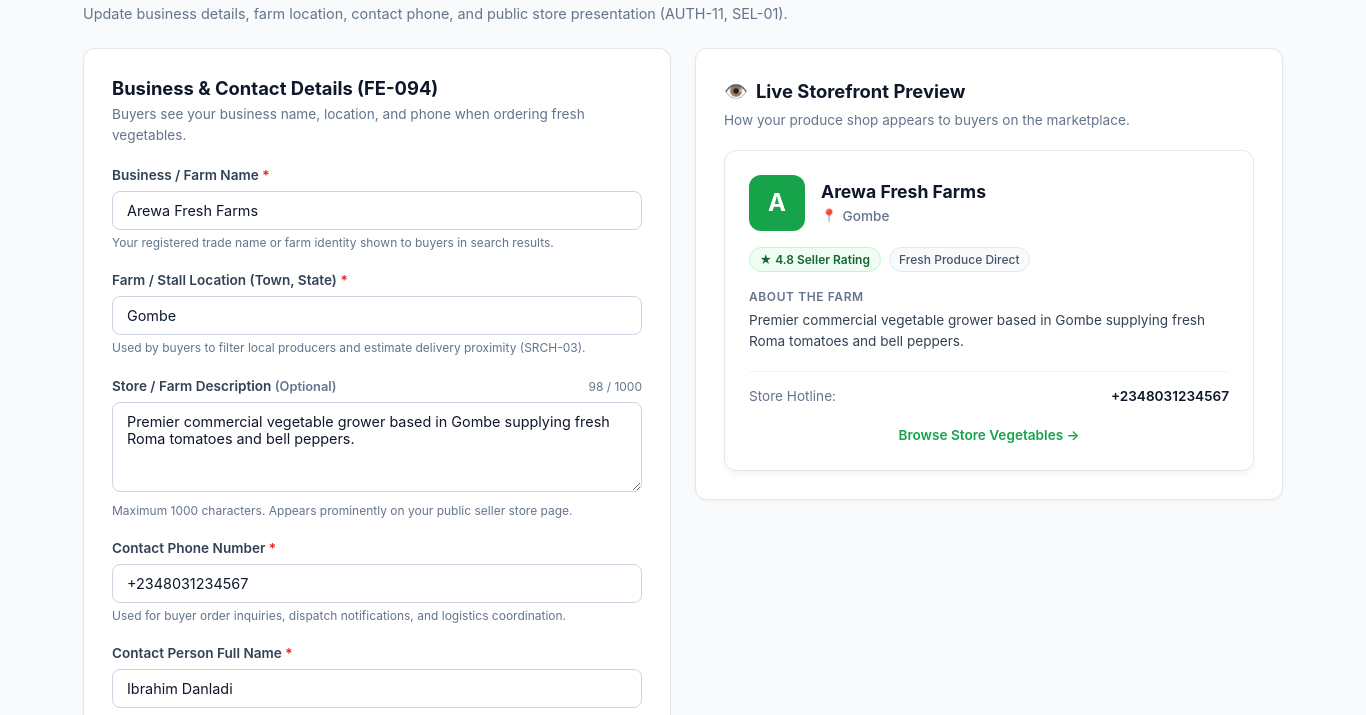
Test: FE-094 / AUTH-11: Seller Profile Edit › 2. Client-Side Validation for Edit Fields (FE-094, AUTH-11) › validates contact phone number (required, at least 10 digits)
// Clear phone
Clear the field with test id "profile-phone-input". click: point(377, 584)
box: [112,564,642,603]
(page scrolled)
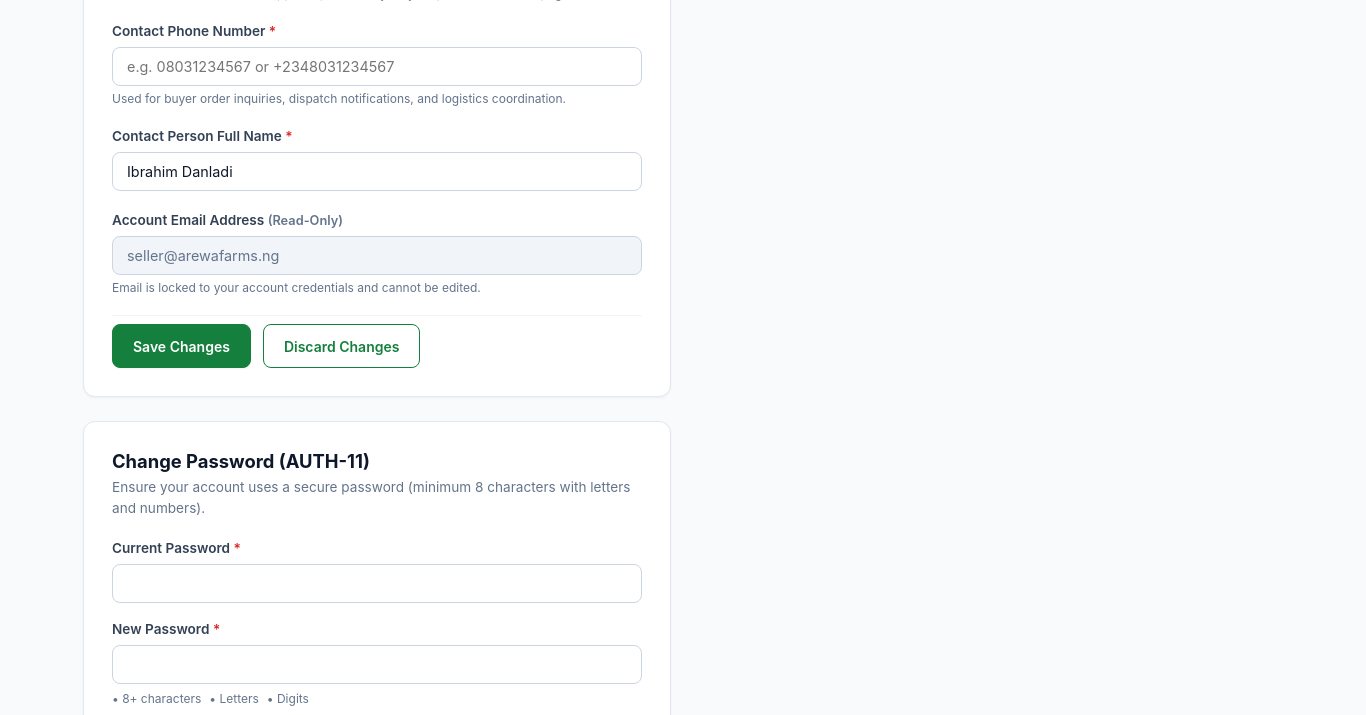
Click the button with test id "profile-save-btn". click: point(181, 346)
box: [112,324,251,368]
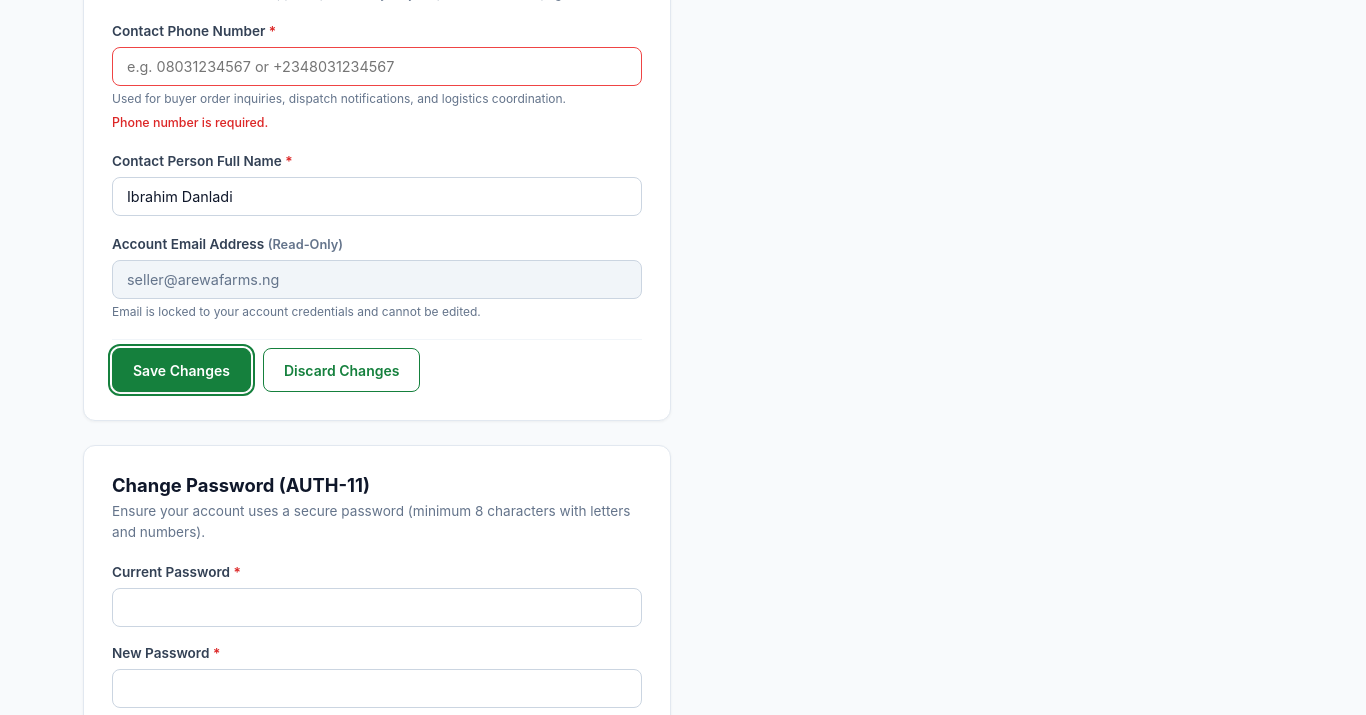
Result: the message with test id "profile-phone-error" shows "Phone number is required" at [112,115,268,130]
// Too short
Type "12345" into the field with test id "profile-phone-input". click: point(377, 67)
box: [112,47,642,86]
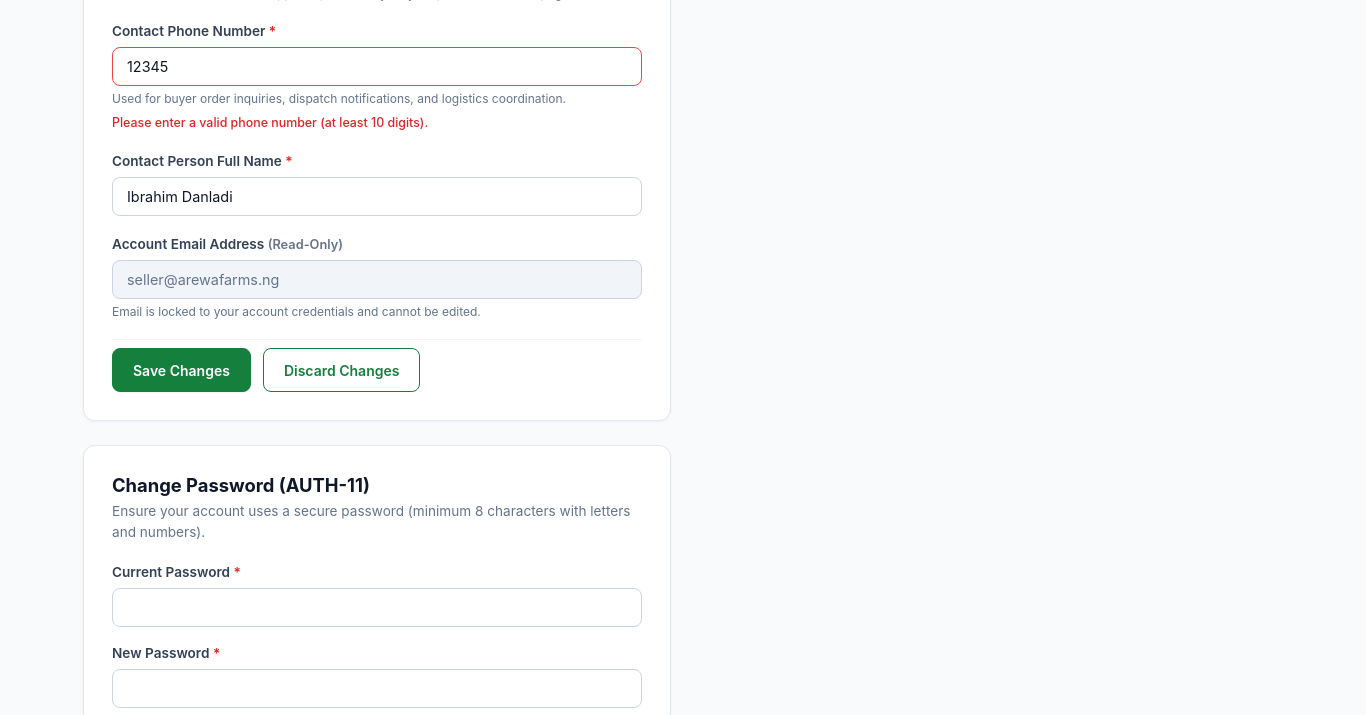
Result: the message with test id "profile-phone-error" shows "at least 10 digits" at [112,115,428,130]
